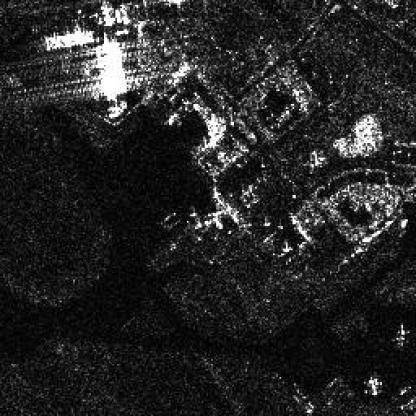airplane: (359, 371, 387, 398), (388, 322, 412, 349)
